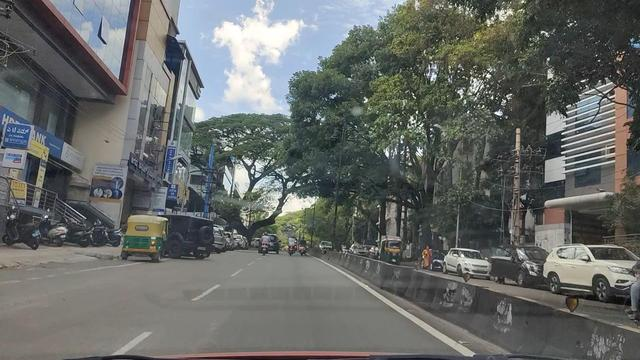LMV: (128, 215, 168, 263)
